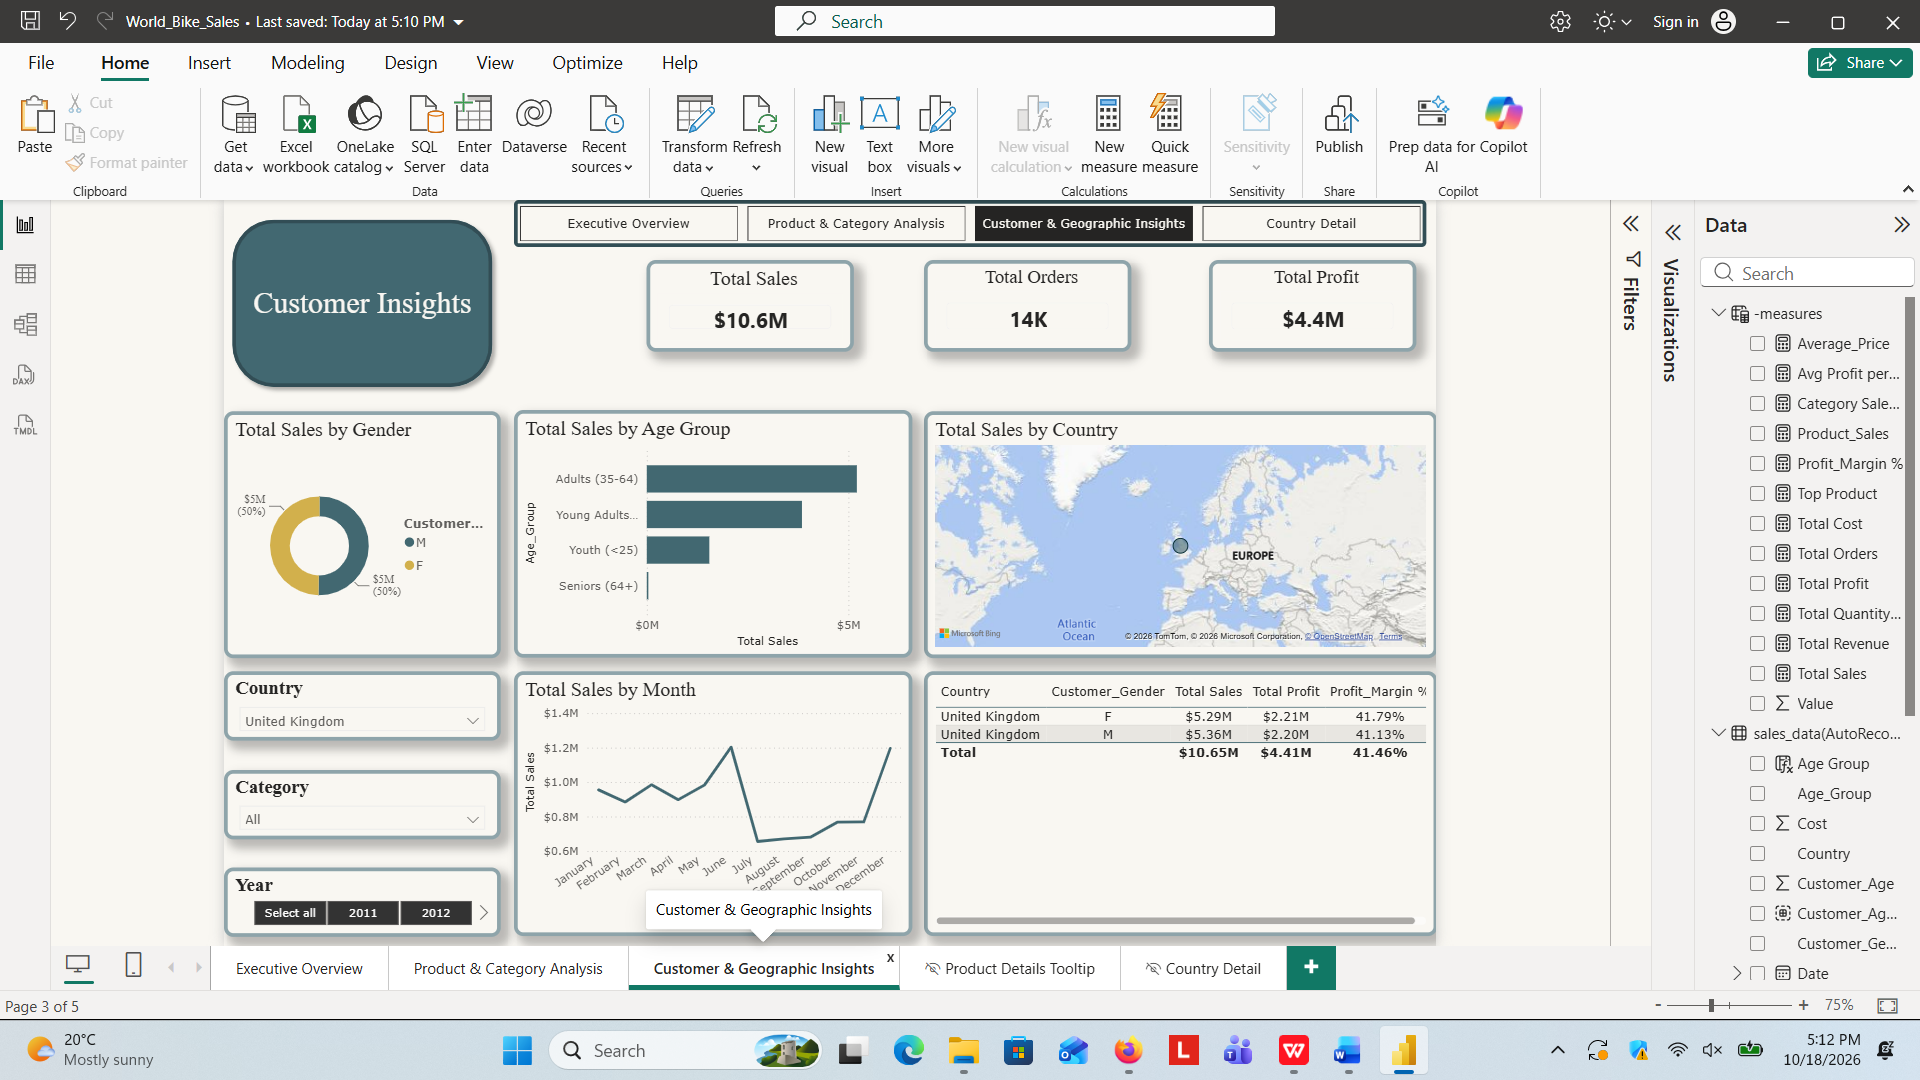

This screenshot's page, from the dashboard's own definition file:
{"tool":"powerbi","page":{"name":"Customer & Geographic Insights","canvas":[1300,800],"ordinal":2},"visuals":[{"type":"slicer","title":"Category","fields":{"Values":["sales_data(AutoRecovered).Product_Category"]},"box":[0,611.7,296.7,74.2],"z":0},{"type":"slicer","title":"Year","fields":{"Values":["sales_data(AutoRecovered).Year"]},"box":[0,715.2,296.7,74.2],"z":1},{"type":"cardVisual","title":"Total Sales","fields":{"Data":["-measures.Total Sales"]},"box":[453.5,64.4,222.3,98.8],"z":2},{"type":"cardVisual","title":"Total Orders","fields":{"Data":["-measures.Total Orders"]},"box":[750.2,64.4,222.3,98.8],"z":3},{"type":"cardVisual","title":"Total Profit","fields":{"Data":["-measures.Total Profit"]},"box":[1056.7,64.4,222.3,98.8],"z":4},{"type":"map","fields":{"Category":["sales_data(AutoRecovered).Country"],"Size":["-measures.Total Sales"]},"box":[750.2,226.7,550.1,264.5],"z":5},{"type":"donutChart","title":"Total Sales by Gender","fields":{"Category":["sales_data(AutoRecovered).Customer_Gender"],"Y":["-measures.Total Sales"]},"box":[0,226.7,296.7,264.5],"z":6},{"type":"clusteredBarChart","title":"Total Sales by Age Group","fields":{"Category":["sales_data(AutoRecovered).Age_Group"],"Y":["-measures.Total Sales"]},"box":[310.7,225.3,426.9,265.9],"z":7},{"type":"tableEx","fields":{"Values":["sales_data(AutoRecovered).Country","sales_data(AutoRecovered).Customer_Gender","-measures.Total Sales","-measures.Total Profit","-measures.Profit_Margin %"]},"box":[750.2,505.3,550.1,284.1],"z":8},{"type":"slicer","title":"Country","fields":{"Values":["sales_data(AutoRecovered).Country"]},"box":[0,505.3,296.7,74.2],"z":9},{"type":"lineChart","title":"Total Sales by Month","fields":{"Category":["sales_data(AutoRecovered).Month_Name"],"Y":["-measures.Total Sales"]},"box":[310.7,505.3,426.9,284.1],"z":10},{"type":"shape","box":[0,12.6,296.7,197.4],"z":11},{"type":"pageNavigator","box":[310.7,0,978.4,50.4],"z":12}]}

Visuals, with their boxes on the page's 1300x800 design canvas (x1, y1, x2, y2). These are canvas units, not pixel positions in the 1920x1080 screenshot, which may show the page scaled, cropped or inside an application window:
"Category" slicer: (0, 612, 297, 686)
"Year" slicer: (0, 715, 297, 789)
"Total Sales" cardVisual: (454, 64, 676, 163)
"Total Orders" cardVisual: (750, 64, 972, 163)
"Total Profit" cardVisual: (1057, 64, 1279, 163)
map - sales_data(AutoRecovered).Country x -measures.Total Sales: (750, 227, 1300, 491)
"Total Sales by Gender" donutChart: (0, 227, 297, 491)
"Total Sales by Age Group" clusteredBarChart: (311, 225, 738, 491)
tableEx - sales_data(AutoRecovered).Country x sales_data(AutoRecovered).Customer_Gender: (750, 505, 1300, 789)
"Country" slicer: (0, 505, 297, 580)
"Total Sales by Month" lineChart: (311, 505, 738, 789)
shape: (0, 13, 297, 210)
pageNavigator: (311, 0, 1289, 50)
